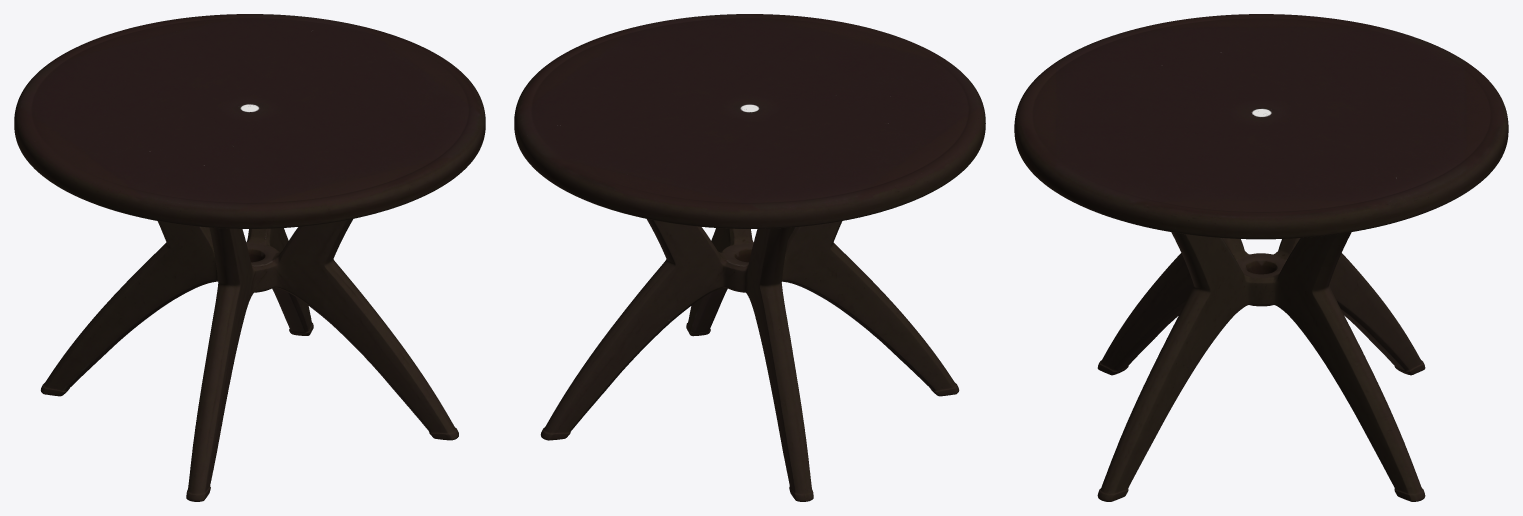
File: 9508_Brown_v2.glb
3 renders of one model, left to right at view 1: azimuth 30°, elevation 25°; view 2: azimuth 150°, elevation 25°; view 3: azimuth 270°, elevation 25°, orthographic. The views are drawn at different scales.
Parts seen in each view (by area): view 1: mesh_node; view 2: mesh_node; view 3: mesh_node.
Part boxes in pixels (x1,y1,x2,y2): mesh_node: (14,14,485,501); mesh_node: (514,14,985,501); mesh_node: (1014,14,1508,501).
Bounding box in the file's own units: 1.9 × 1.36 × 1.9.
1 material, 1 textured.
